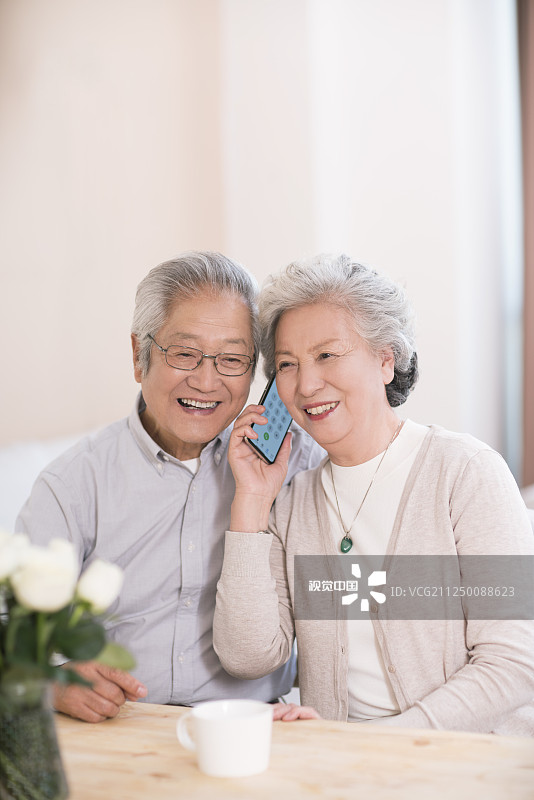calling: (220, 377, 321, 549)
